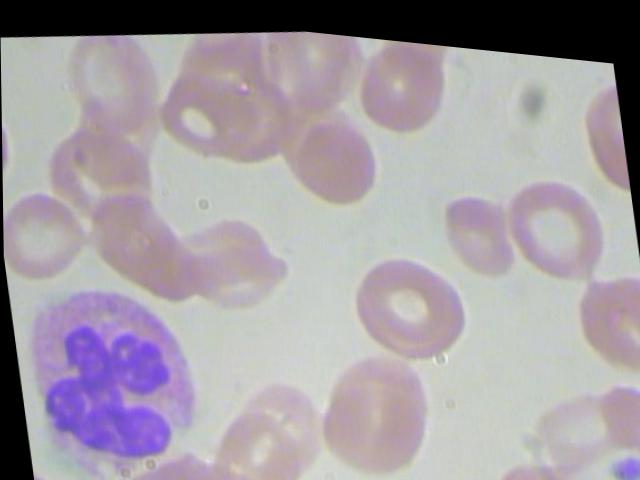Platelets: (603, 433, 639, 477)
Red Blood Cells: (303, 352, 437, 479), (345, 230, 470, 363), (498, 152, 623, 282), (36, 111, 159, 227), (56, 25, 167, 143), (174, 229, 297, 324), (285, 103, 383, 212), (433, 158, 517, 285), (352, 29, 450, 135), (2, 183, 92, 292), (325, 338, 432, 428), (565, 257, 639, 374)
White Blood Cells: (8, 263, 219, 479)
